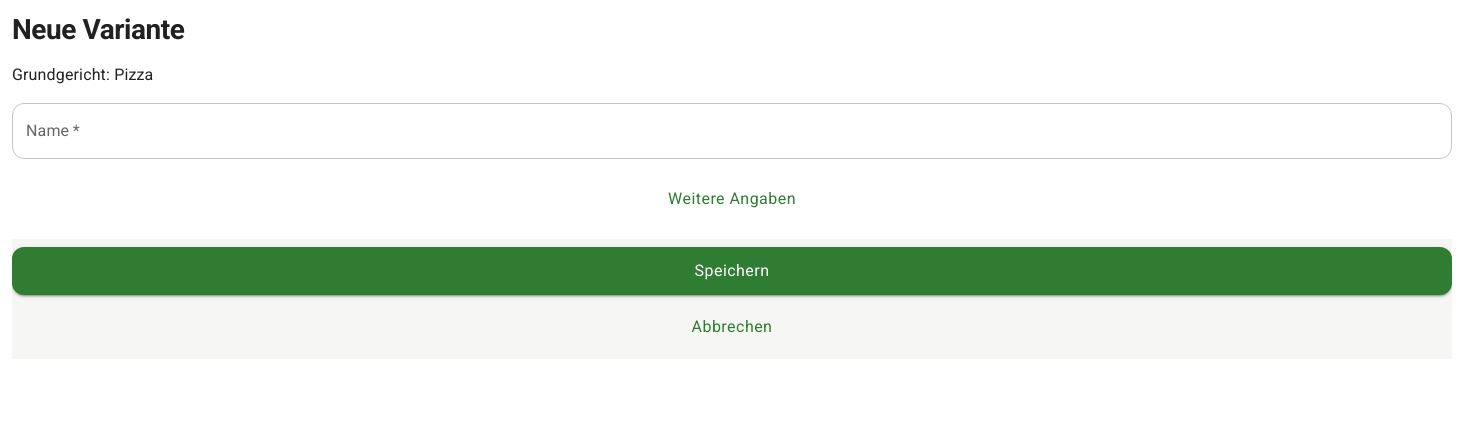
Scenario: verlangt einen Namen für eine Variante
Expected: the text "Grundgericht: Pizza" is shown, [12,65,154,84]
Click the button with test id "save-variant" at (732, 271), box [12,247,1452,295]
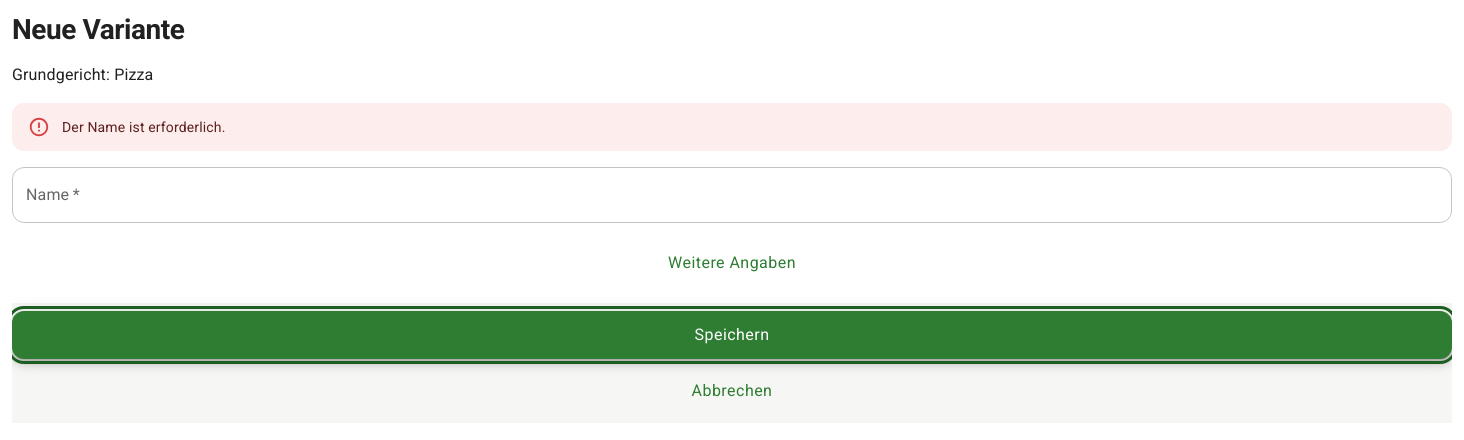
Result: the message reads "Der Name ist erforderlich." at [62,119,226,135]
